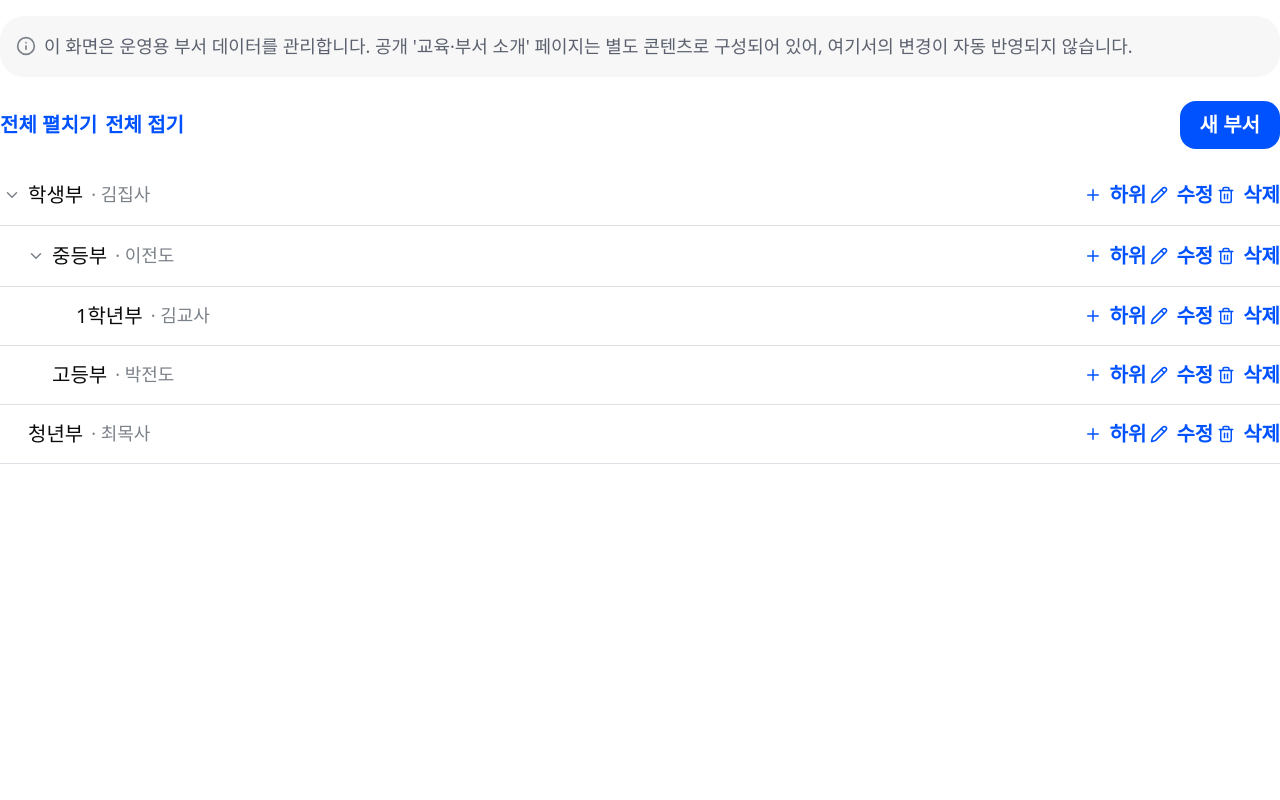
DepartmentManager (접이식 트리) › 노드 ＋하위는 그 부모 id로 프리셋한다
This screenshot has width=1280, height=800.
Expected: the text "중등부" is shown, [52,239,107,273]
What coordinates should you click on to do the following:
click the button with aria-label "중등부 하위 추가"
I would click on:
 (1115, 256)
Its box is [1084,244,1146,267].
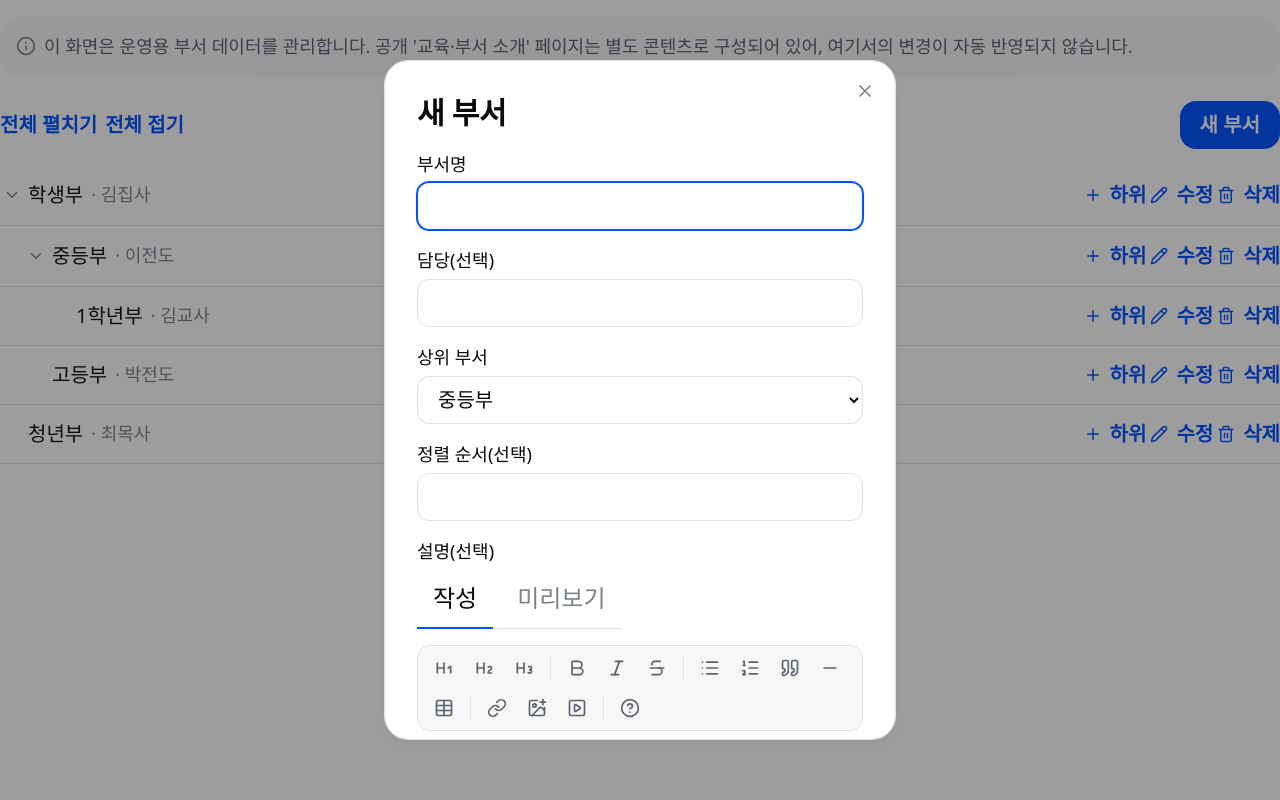
Now the dropdown labelled "상위 부서" shows "중등부", box [417,376,863,424]
